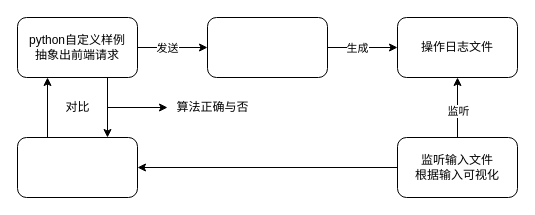
The diagram is 535 pixels wide and 215 high, and some of its shapes have lost their labels. The shapes that lost their labels are listed below. From the top down, each one's centre as x and y in pixels, then its label:
point 267,47: 后端接受请求 结果输入文件中
point 77,167: 可视化结果
